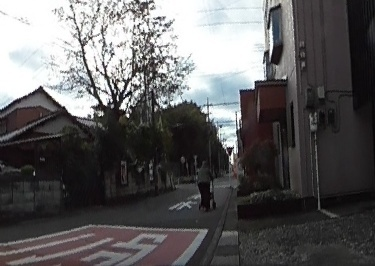person: (193, 160, 214, 207)
